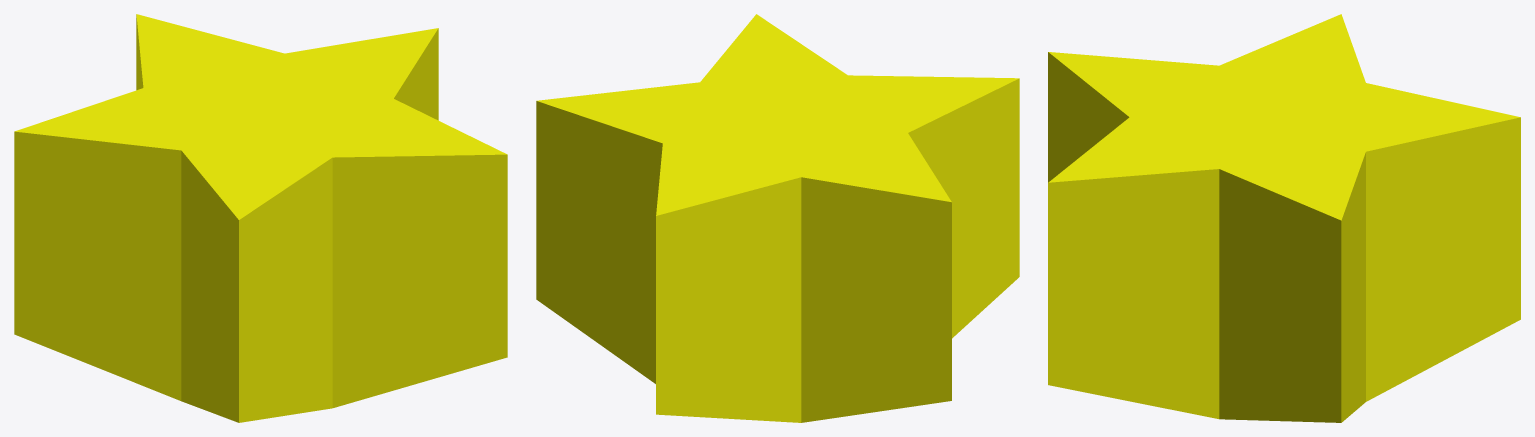
File: bits_platform_segment7.0x049C8.collision.obj
The picture shows the model from 3 angles, left to right: view 1: azimuth 30°, elevation 25°; view 2: azimuth 150°, elevation 25°; view 3: azimuth 270°, elevation 25°; orthographic projection. The views are drawn at different scales.
Parts seen in each view (by area): view 1: bits_platform_segment7_049C8_normal; view 2: bits_platform_segment7_049C8_normal; view 3: bits_platform_segment7_049C8_normal.
Boxes of the visible parts, x1=… form: bits_platform_segment7_049C8_normal: x1=14, y1=14, x2=507, y2=422; bits_platform_segment7_049C8_normal: x1=536, y1=14, x2=1019, y2=422; bits_platform_segment7_049C8_normal: x1=1048, y1=14, x2=1520, y2=422.
Size of what is drawn, in the model's own units: 4.62 by 2.61 by 4.46.
